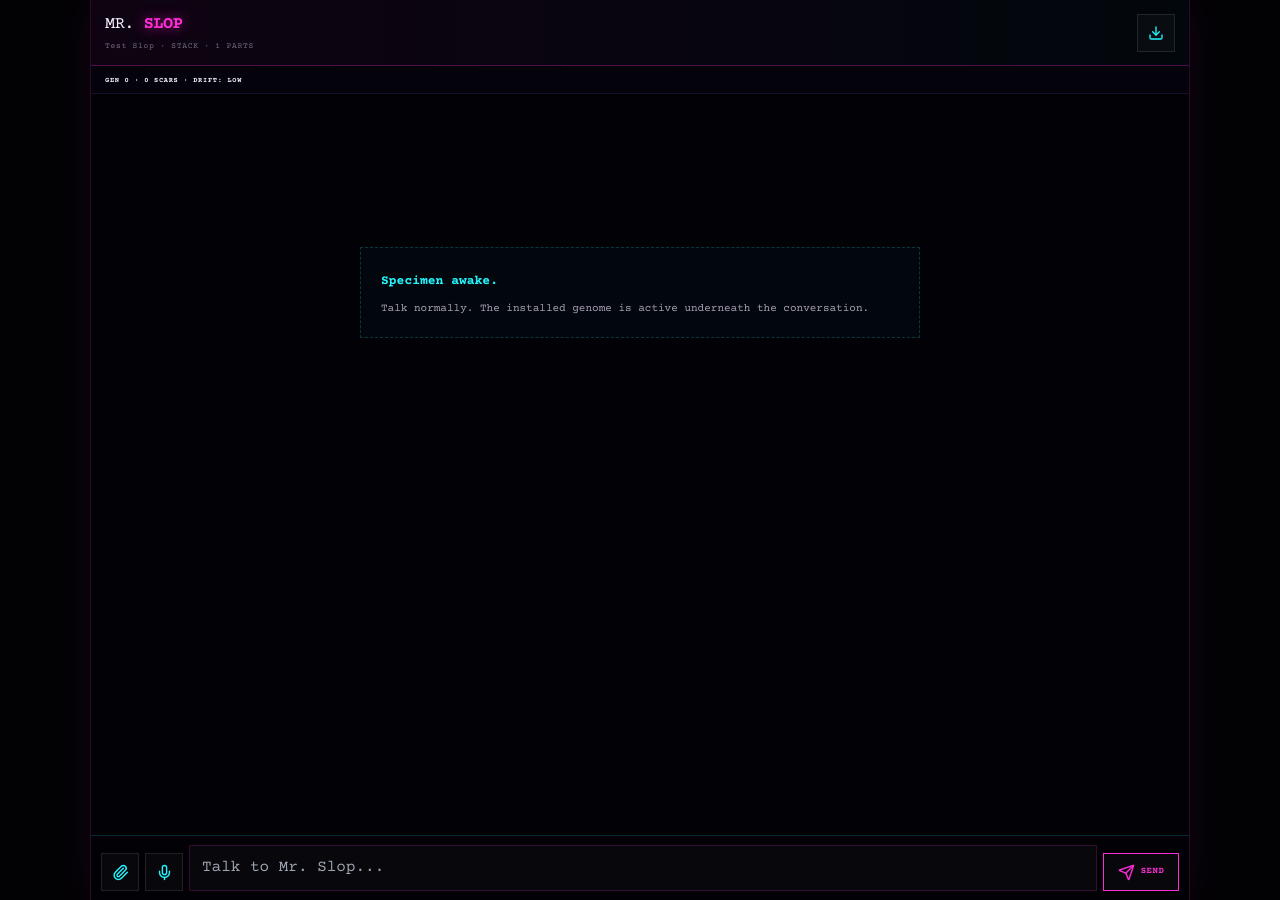
MrSlopTerminal › renders a returned choice card without changing the genome
This screenshot has width=1280, height=900.
Type "give me options" into the text box with placeholder "Talk to Mr. Slop..." at (643, 868), box [189,845,1097,891]
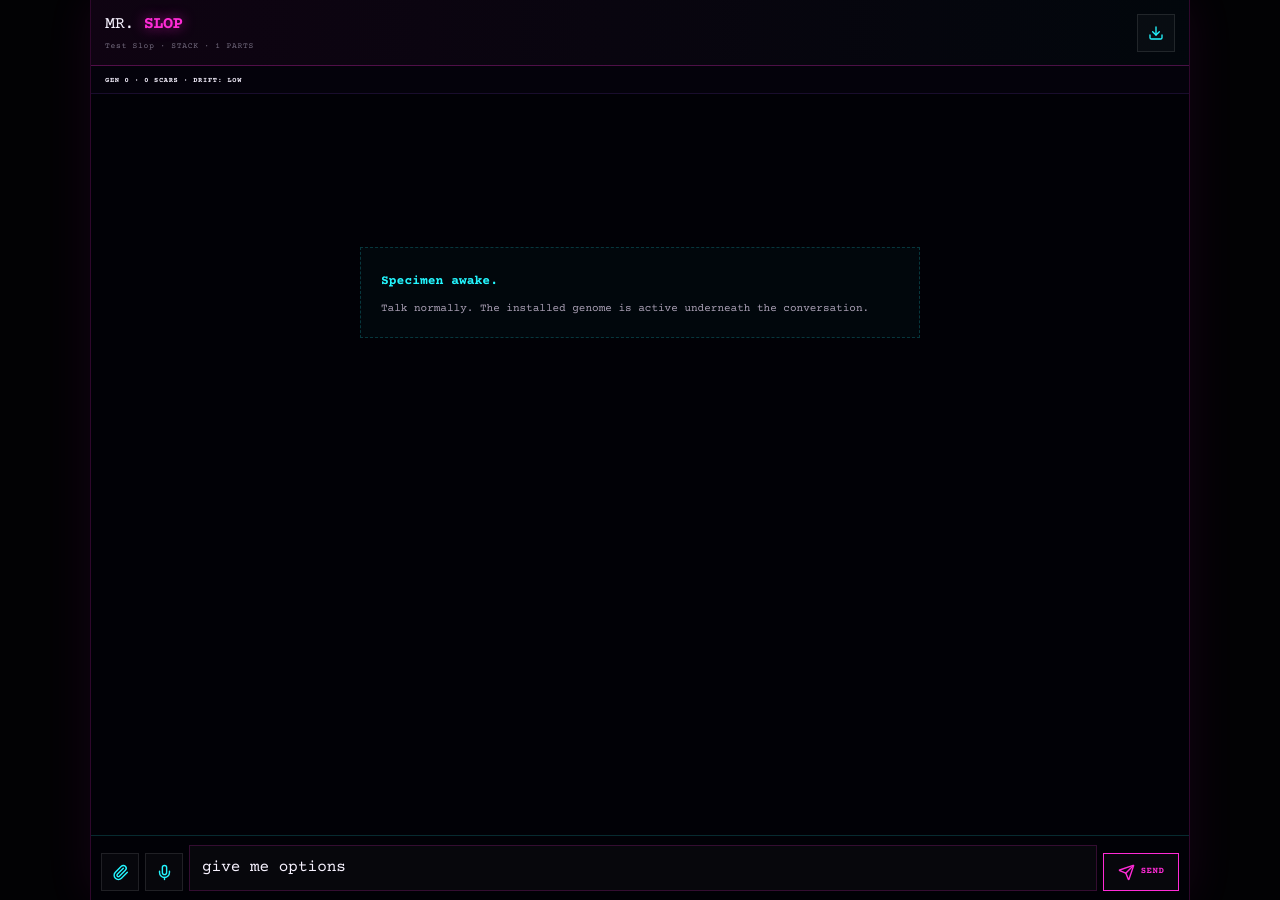
Click the button "SEND" at (1141, 872), box [1103,853,1179,891]
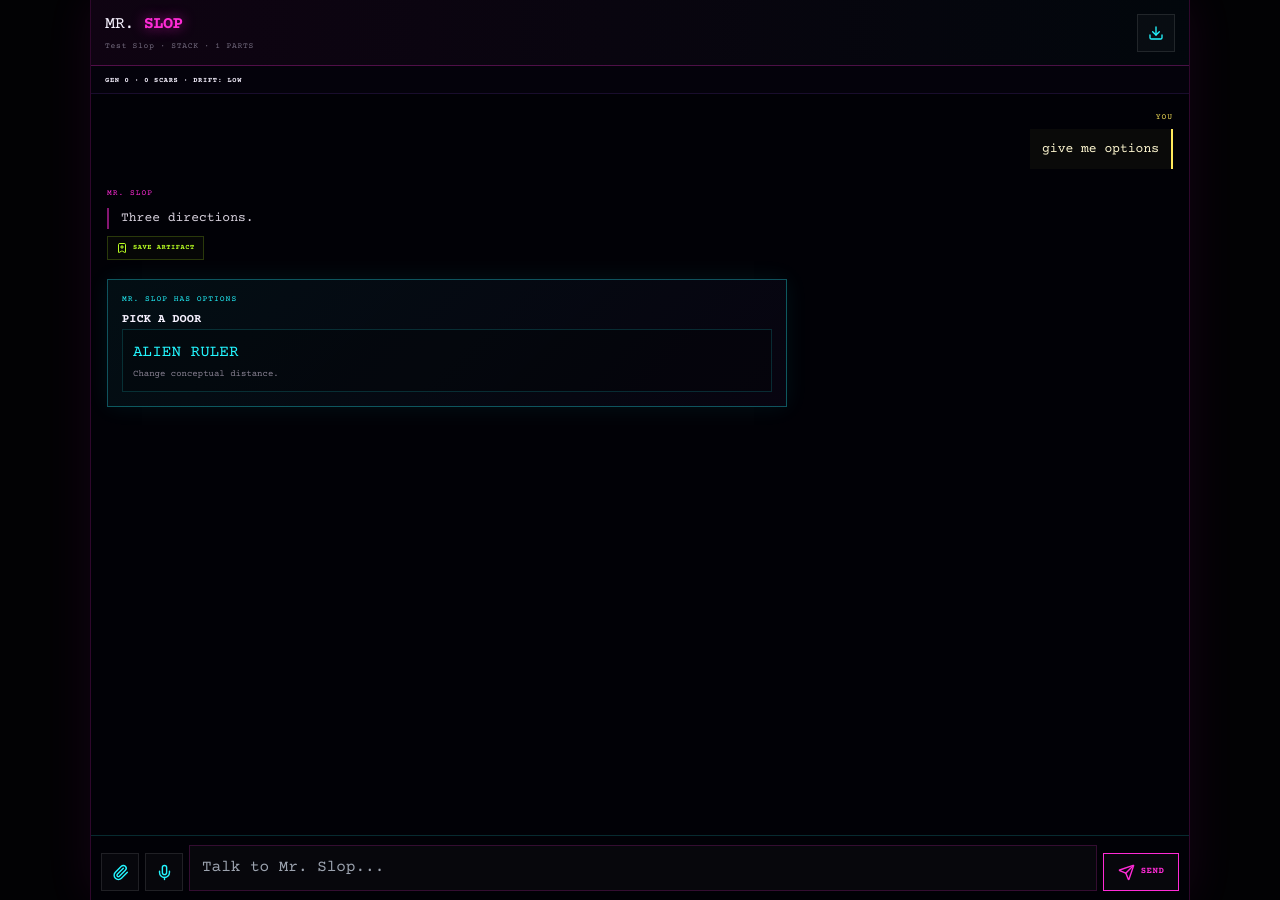
Expected: the button "ALIEN RULER Change conceptual distance." is shown, [122,329,772,392]
